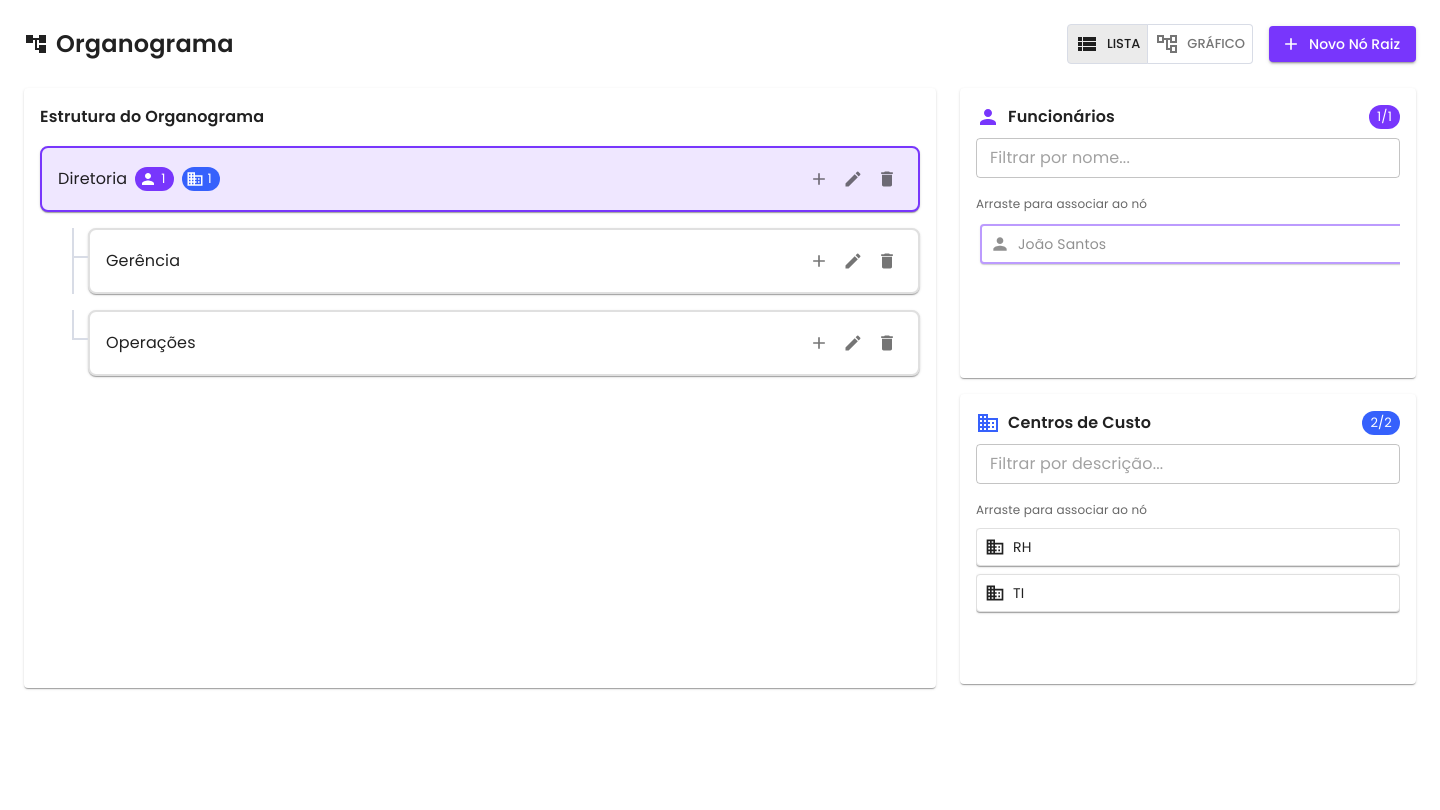
Test: Organograma page › expands node on click and shows details
The width and height of the screenshot is (1440, 810).
Click the heading "Diretoria".
click(93, 179)  # box [58,165,127,193]
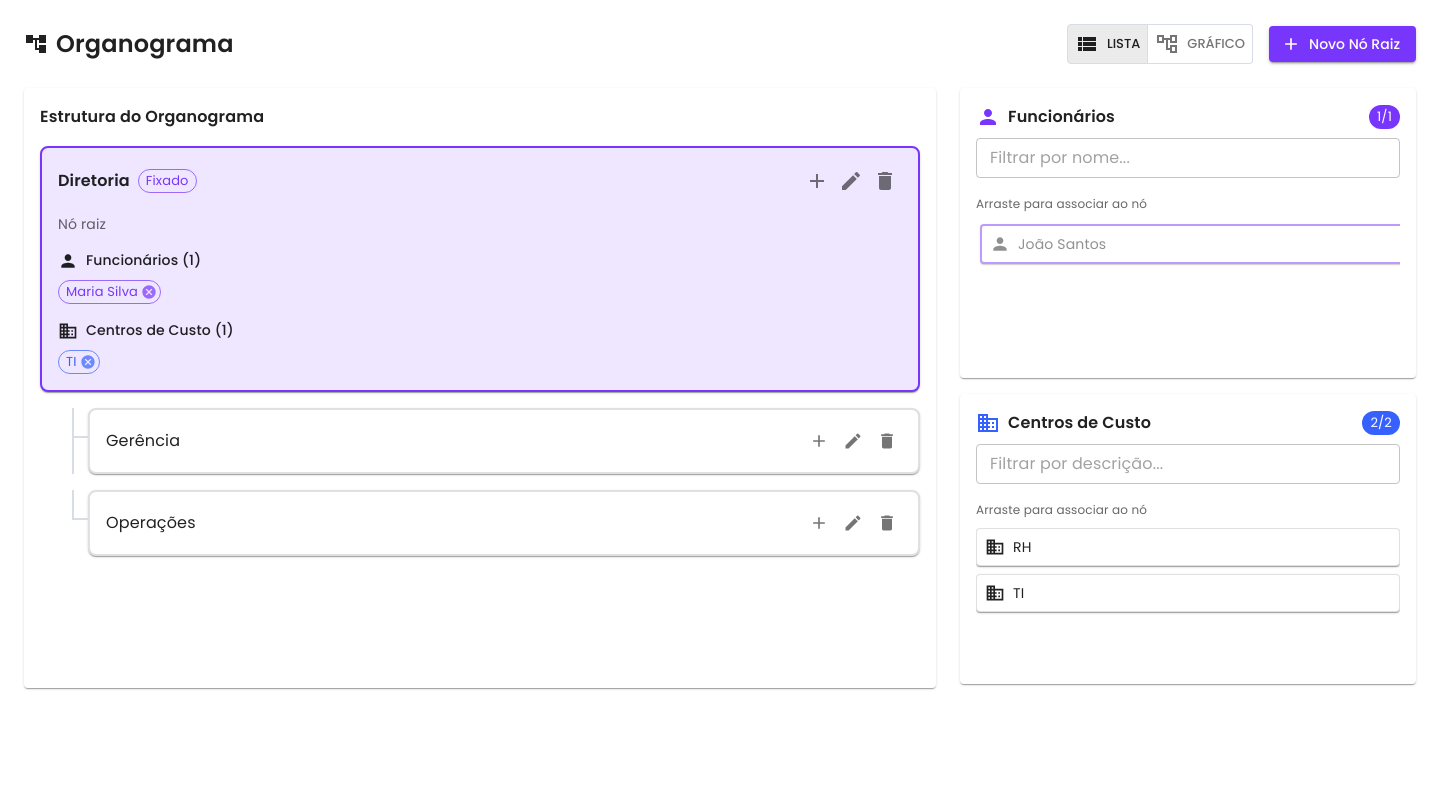
Now the text "Nó raiz" is shown, box [58,214,106,234]
Now the text "Maria Silva" is shown, box [66,282,138,301]
Now the text "Fixado" is shown, box [146,171,189,190]
